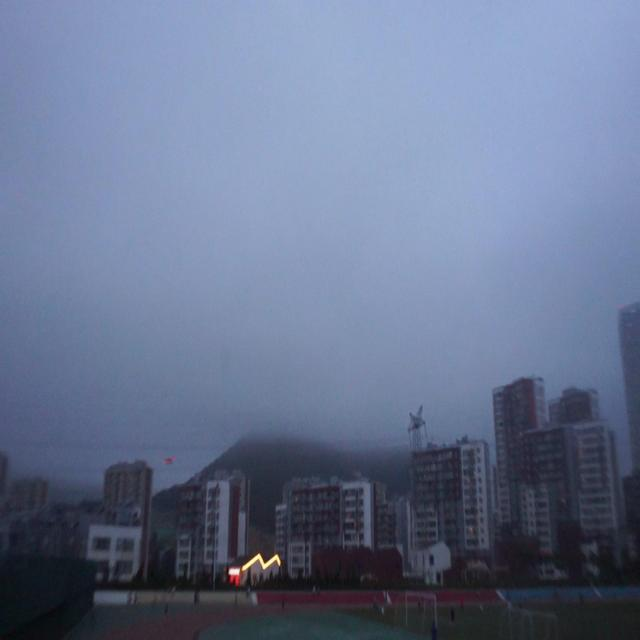UAV: (163, 456, 176, 464)
